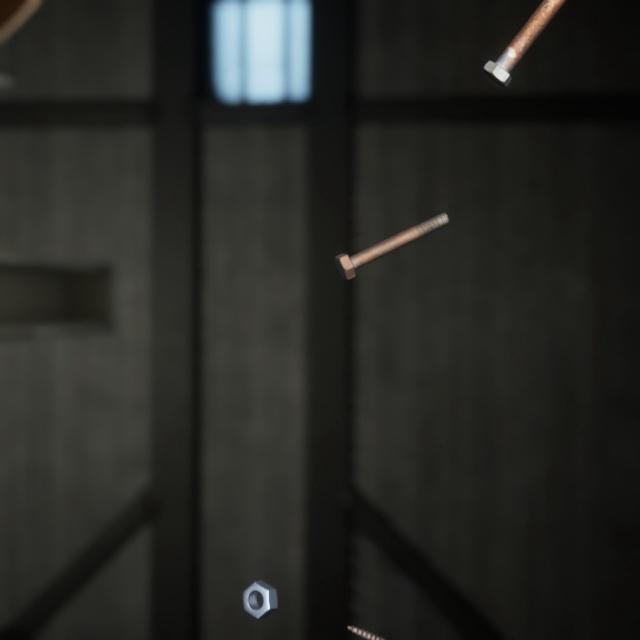bolt: (330, 192, 453, 269), (478, 0, 565, 83), (343, 597, 445, 640)
nut: (238, 552, 282, 599)
